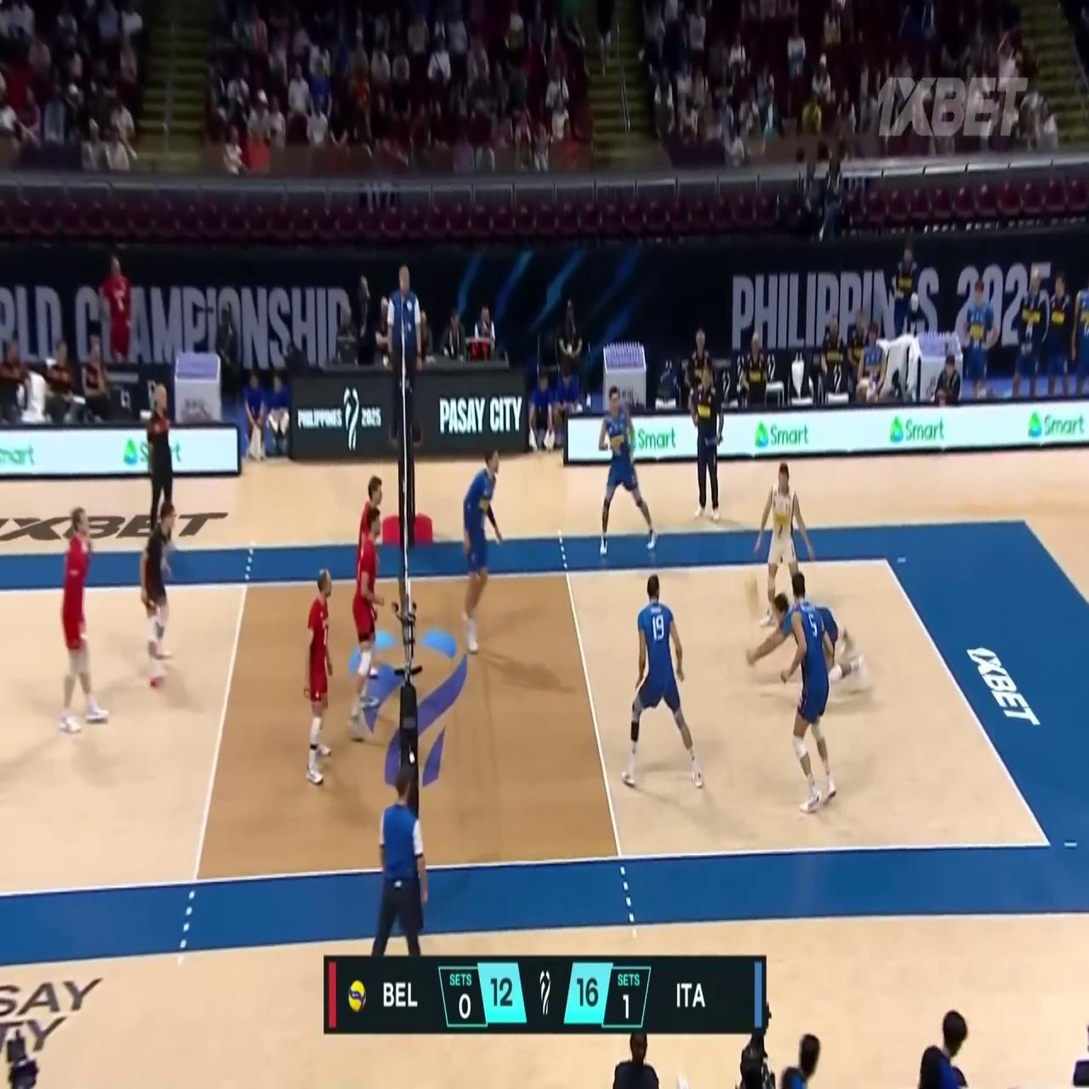ball: (743, 574, 758, 602)
